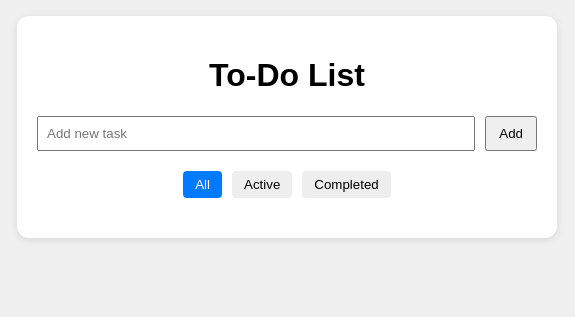
App integration › adds a new task
Type "New Integration Task" into the field with placeholder "Add new task".
click(256, 133); type("New Integration Task")  # box [37, 116, 475, 151]
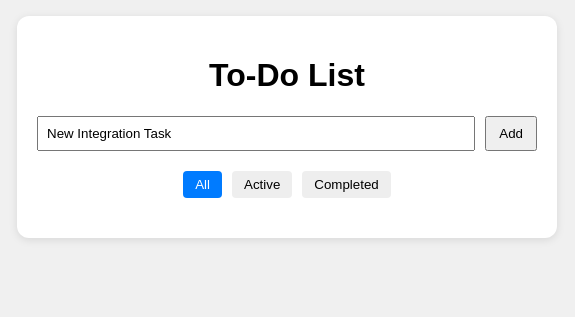
Click the button "Add".
click(511, 133)  # box [485, 116, 537, 151]
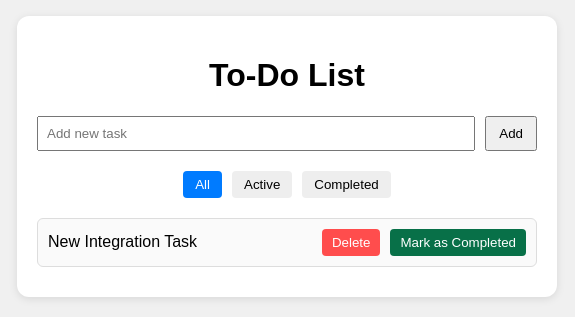
Expected: the text "New Integration Task" is shown, [48, 233, 197, 251]
